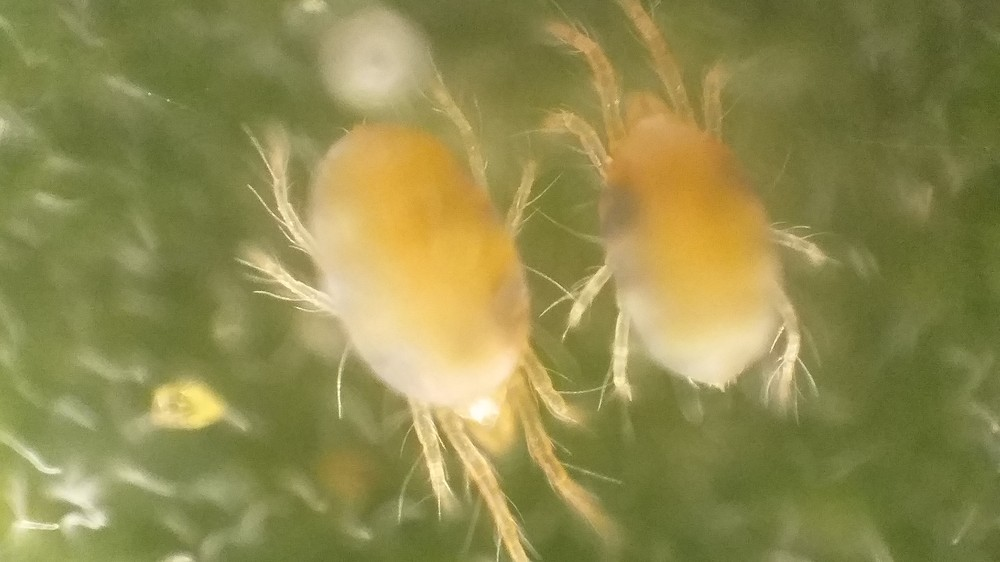Aracnido Rojo: (234, 111, 615, 556), (544, 21, 864, 452)
